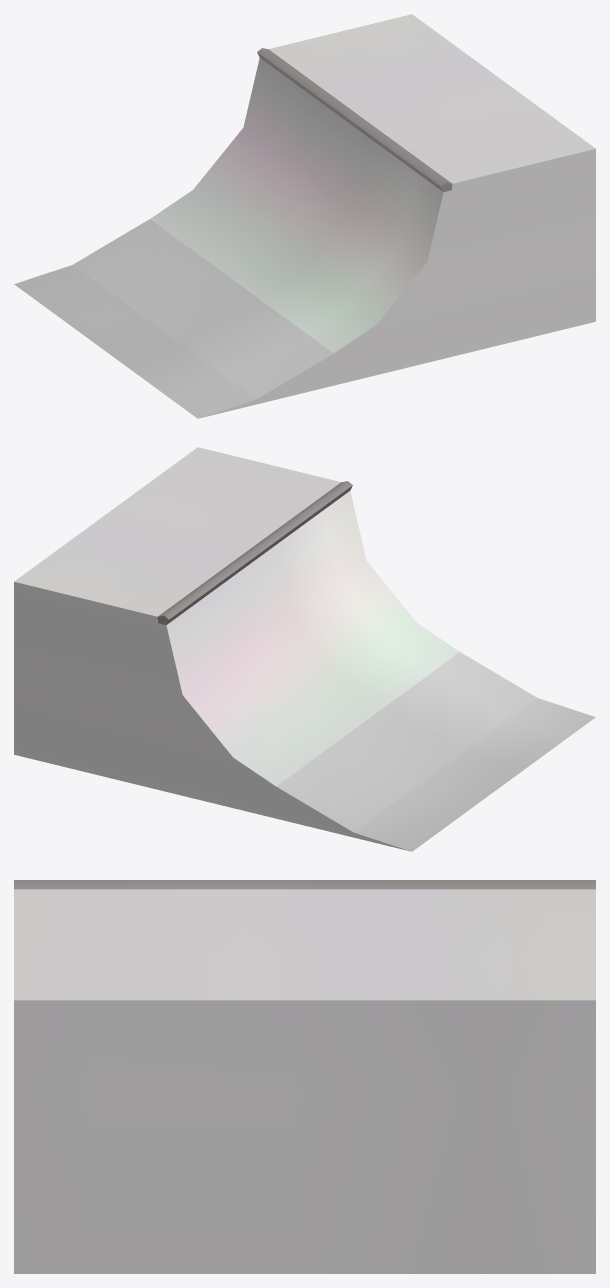
Rendered from SkateboardQuarterpipeCement.glb.
3 views of the same model, one above another, from view 1: azimuth 30°, elevation 25°; view 2: azimuth 150°, elevation 25°; view 3: azimuth 270°, elevation 25° (orthographic). The views are drawn at different scales.
Visible parts, largest first — view 1: SkateboardQuarterpipeCement; view 2: SkateboardQuarterpipeCement; view 3: SkateboardQuarterpipeCement.
Part boxes in pixels (x1,y1,x2,y2): SkateboardQuarterpipeCement: (14, 14, 595, 418); SkateboardQuarterpipeCement: (14, 447, 595, 851); SkateboardQuarterpipeCement: (14, 880, 595, 1273).
Size of the model in its own units: 5 by 2.11 by 4.
1 material, 1 textured.
